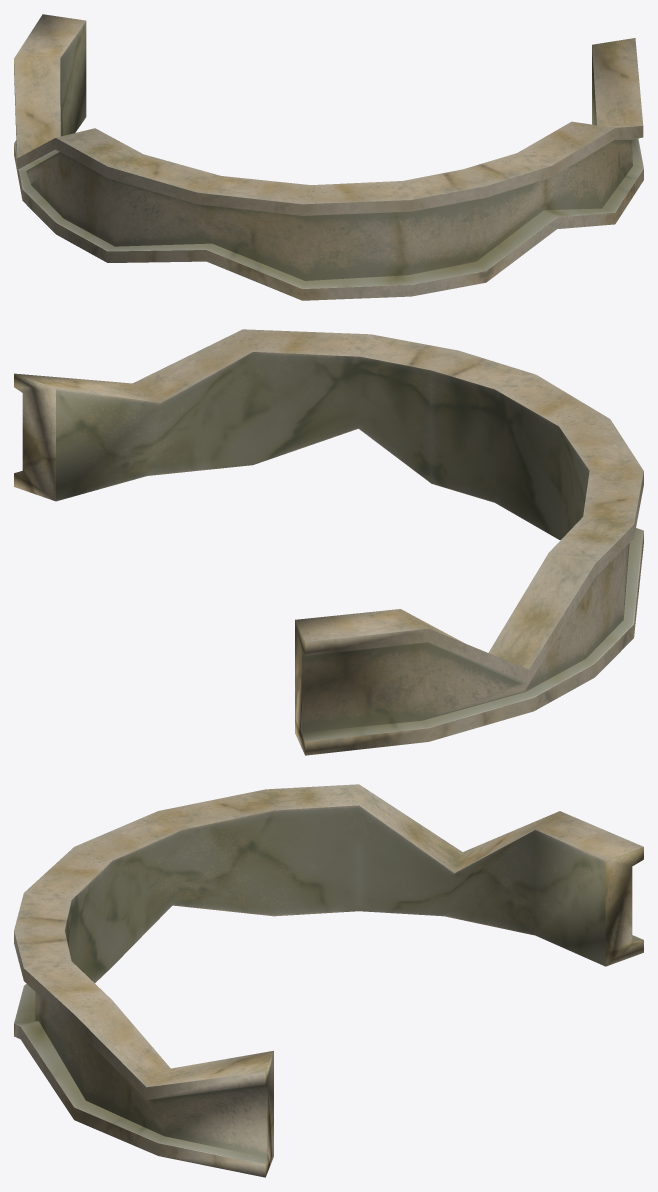
File: pavilion07.fbx
3 renders of one model, top to bottom at view 1: azimuth 30°, elevation 25°; view 2: azimuth 150°, elevation 25°; view 3: azimuth 270°, elevation 25°, orthographic. The views are drawn at different scales.
Visible parts, largest first — view 1: Cylinder.007; view 2: Cylinder.007; view 3: Cylinder.007.
Boxes of the visible parts, left/top/right/bottom form: Cylinder.007: left=14, top=14, right=643, bottom=300; Cylinder.007: left=14, top=329, right=643, bottom=755; Cylinder.007: left=14, top=784, right=643, bottom=1177.
Bounding box in the file's own units: 563 × 96.54 × 521.
